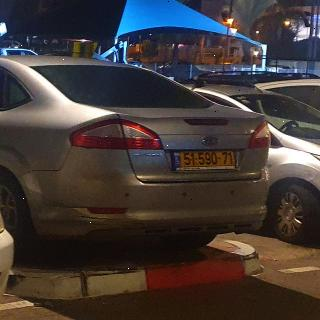LicensePlate: (181, 150, 236, 168)
